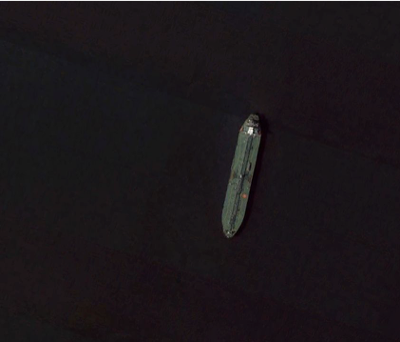boat: (219, 113, 264, 239)
